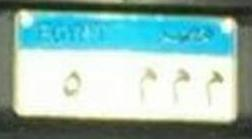5: (59, 65, 89, 101)
meem: (134, 64, 164, 103), (201, 68, 224, 108), (170, 66, 193, 105)
